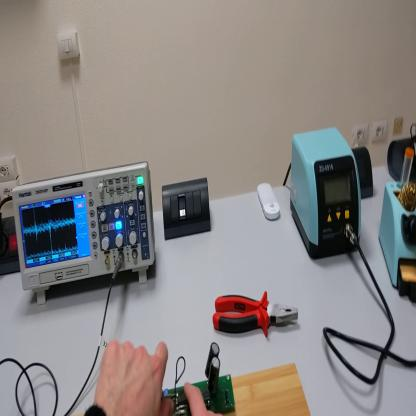hand: (93, 338, 175, 416), (184, 383, 217, 413)
high voltage board: (163, 344, 236, 416)
oscilloscope: (10, 161, 156, 301)
oscilloscope probe tip: (167, 395, 186, 406)
pliers: (213, 286, 299, 341)
socket: (356, 144, 378, 202), (2, 211, 21, 277), (388, 136, 415, 182)
welder base: (383, 144, 415, 304)
welder station: (289, 124, 363, 262)
working area: (230, 360, 312, 415)
